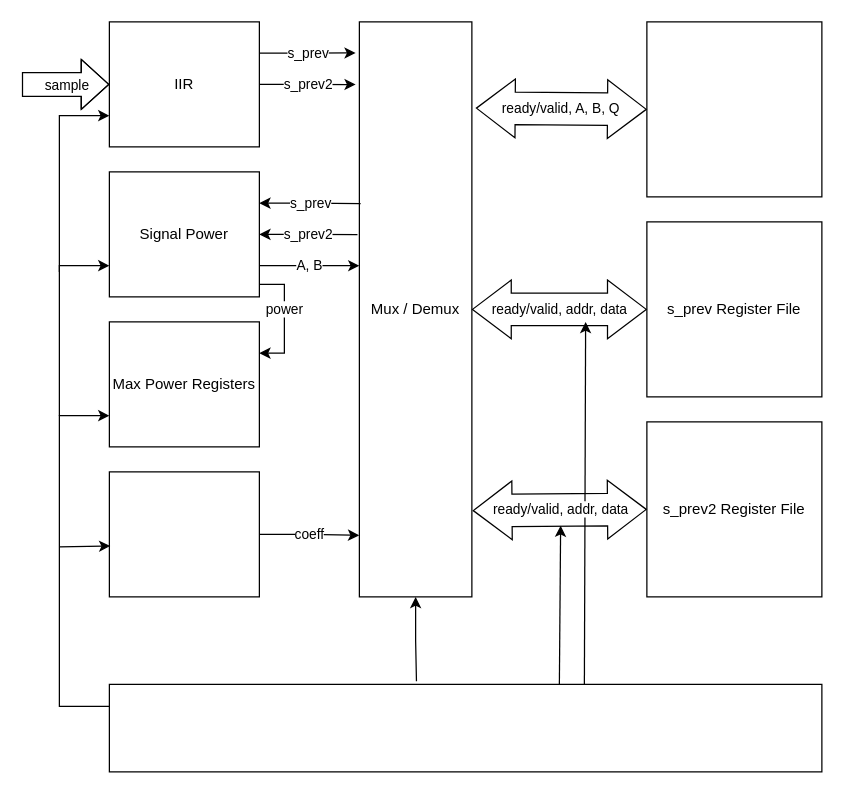
This 844x794 diagram has some shape labels left out. Each missing label, with the centre of its shape:
"Coefficients RAM" goes at (x=183, y=534).
"Control Logic" goes at (x=465, y=727).
"Multiplier" goes at (x=734, y=109).
